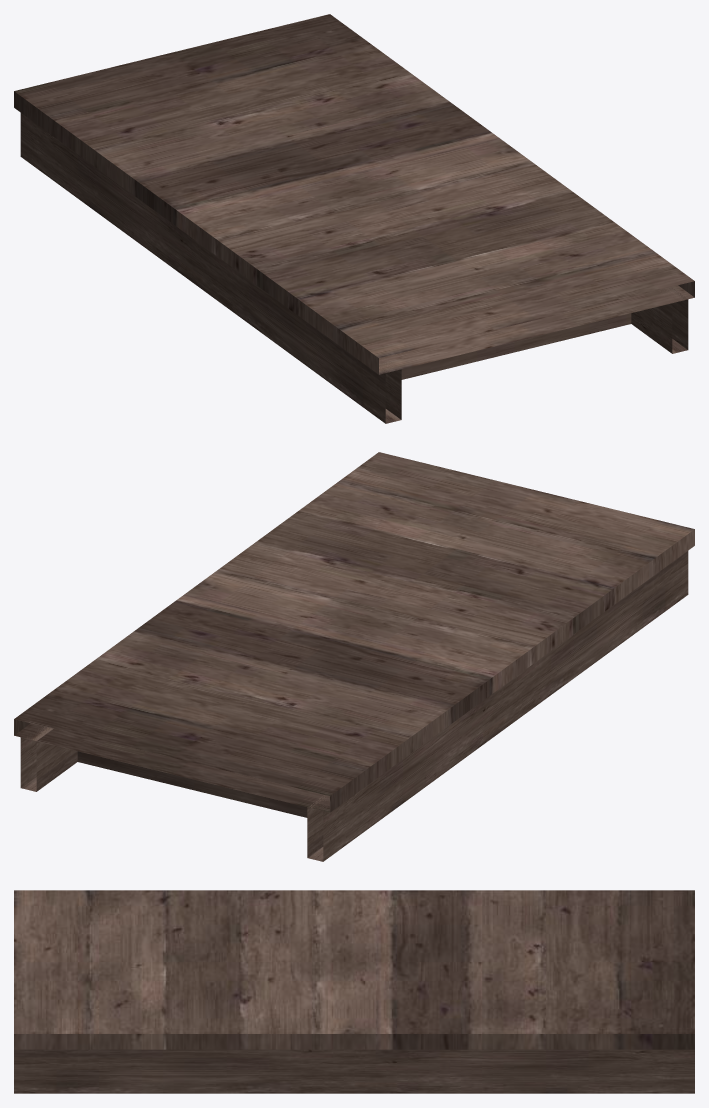
Rendered from jetty_deck.glb.
The picture shows the model from 3 angles, top to bottom: view 1: azimuth 30°, elevation 25°; view 2: azimuth 150°, elevation 25°; view 3: azimuth 270°, elevation 25°; orthographic projection. The views are drawn at different scales.
Parts seen in each view (by area): view 1: Floor_Dock.001; view 2: Floor_Dock.001; view 3: Floor_Dock.001.
Boxes of the visible parts, x1,y1,x2,y2 form: Floor_Dock.001: [14, 14, 694, 423]; Floor_Dock.001: [14, 452, 694, 861]; Floor_Dock.001: [14, 890, 694, 1093].
Bounding box in the file's own units: 2 × 0.4071 × 4.
Materials: 1 (1 with a texture image).
